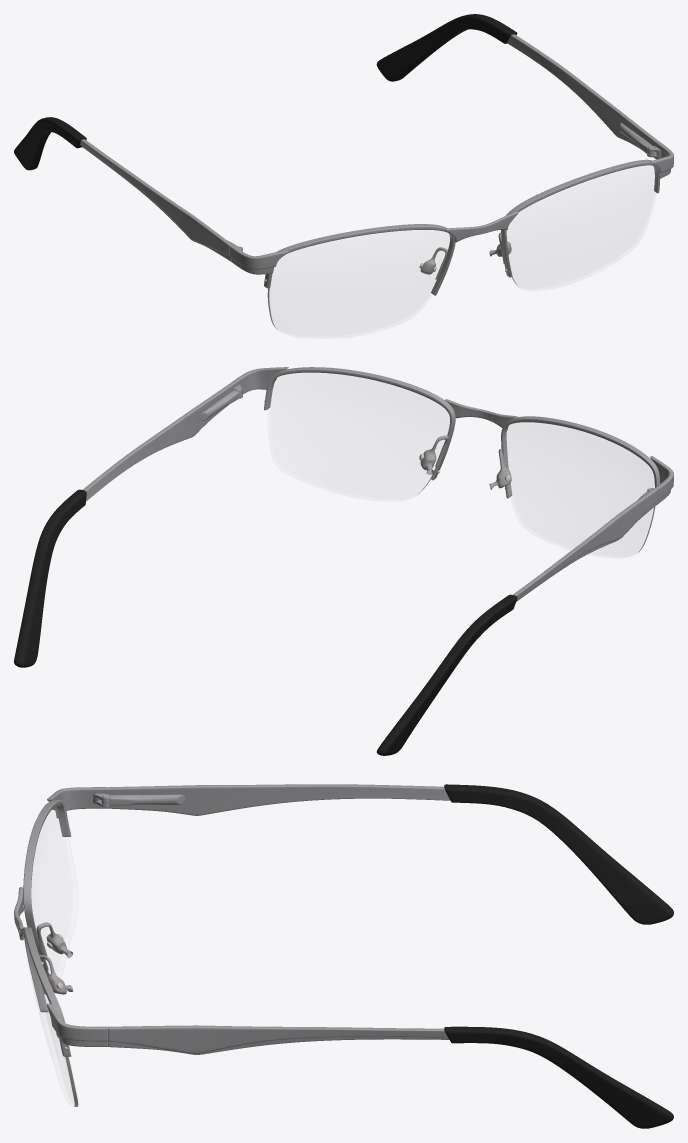
File: sku_142834.glb
3 renders of one model, top to bottom at view 1: azimuth 30°, elevation 25°; view 2: azimuth 150°, elevation 25°; view 3: azimuth 270°, elevation 25°, orthographic. The views are drawn at different scales.
Visible parts, largest first — view 1: Assets; view 2: Assets; view 3: Assets.
Boxes of the visible parts, x1,y1,x2,y2 form: Assets: (14,14,673,337); Assets: (14,367,673,755); Assets: (14,784,673,1128).
Bounding box in the file's own units: 0.1264 × 0.0314 × 0.1424.
6 materials, 2 textured.
